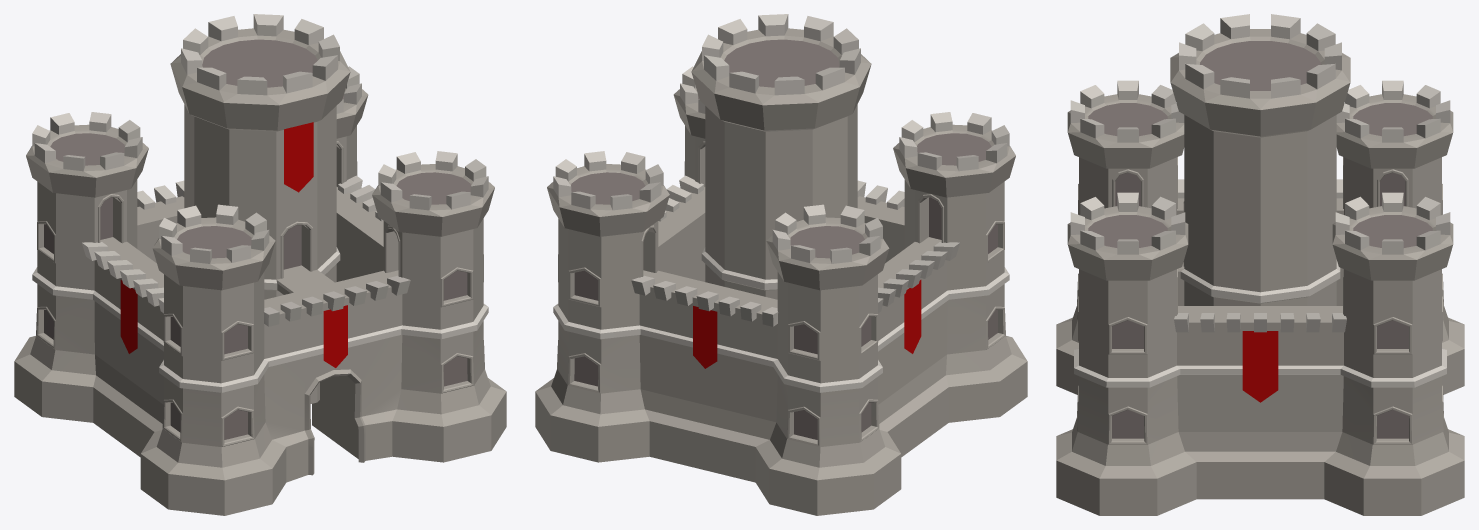
File: MainBase.fbx
The picture shows the model from 3 angles, left to right: view 1: azimuth 30°, elevation 25°; view 2: azimuth 150°, elevation 25°; view 3: azimuth 270°, elevation 25°; orthographic projection. The views are drawn at different scales.
Parts seen in each view (by area): view 1: MainBase_MESH1; view 2: MainBase_MESH1; view 3: MainBase_MESH1.
Part boxes in pixels (x1,y1,x2,y2): MainBase_MESH1: (14, 14, 506, 515); MainBase_MESH1: (535, 14, 1027, 515); MainBase_MESH1: (1056, 14, 1464, 515).
Size of the model in its own units: 1352 by 1392 by 1352.
